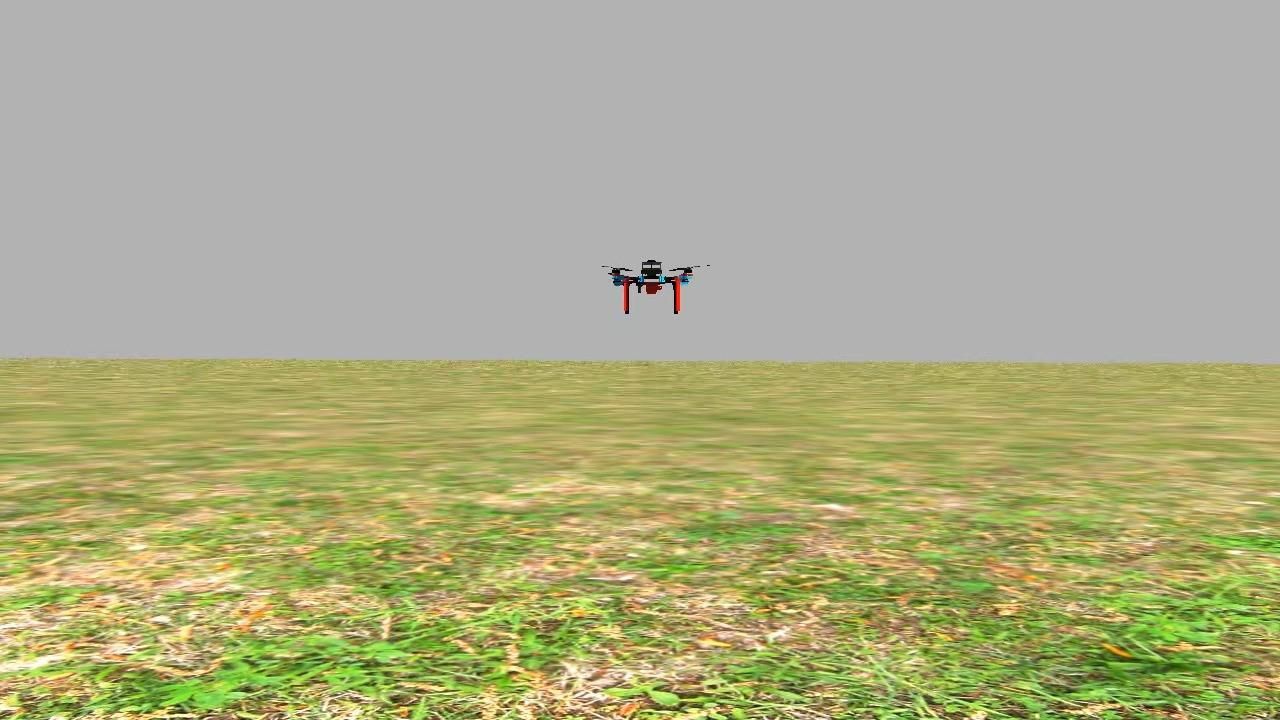UAV: (596, 258, 706, 330)
